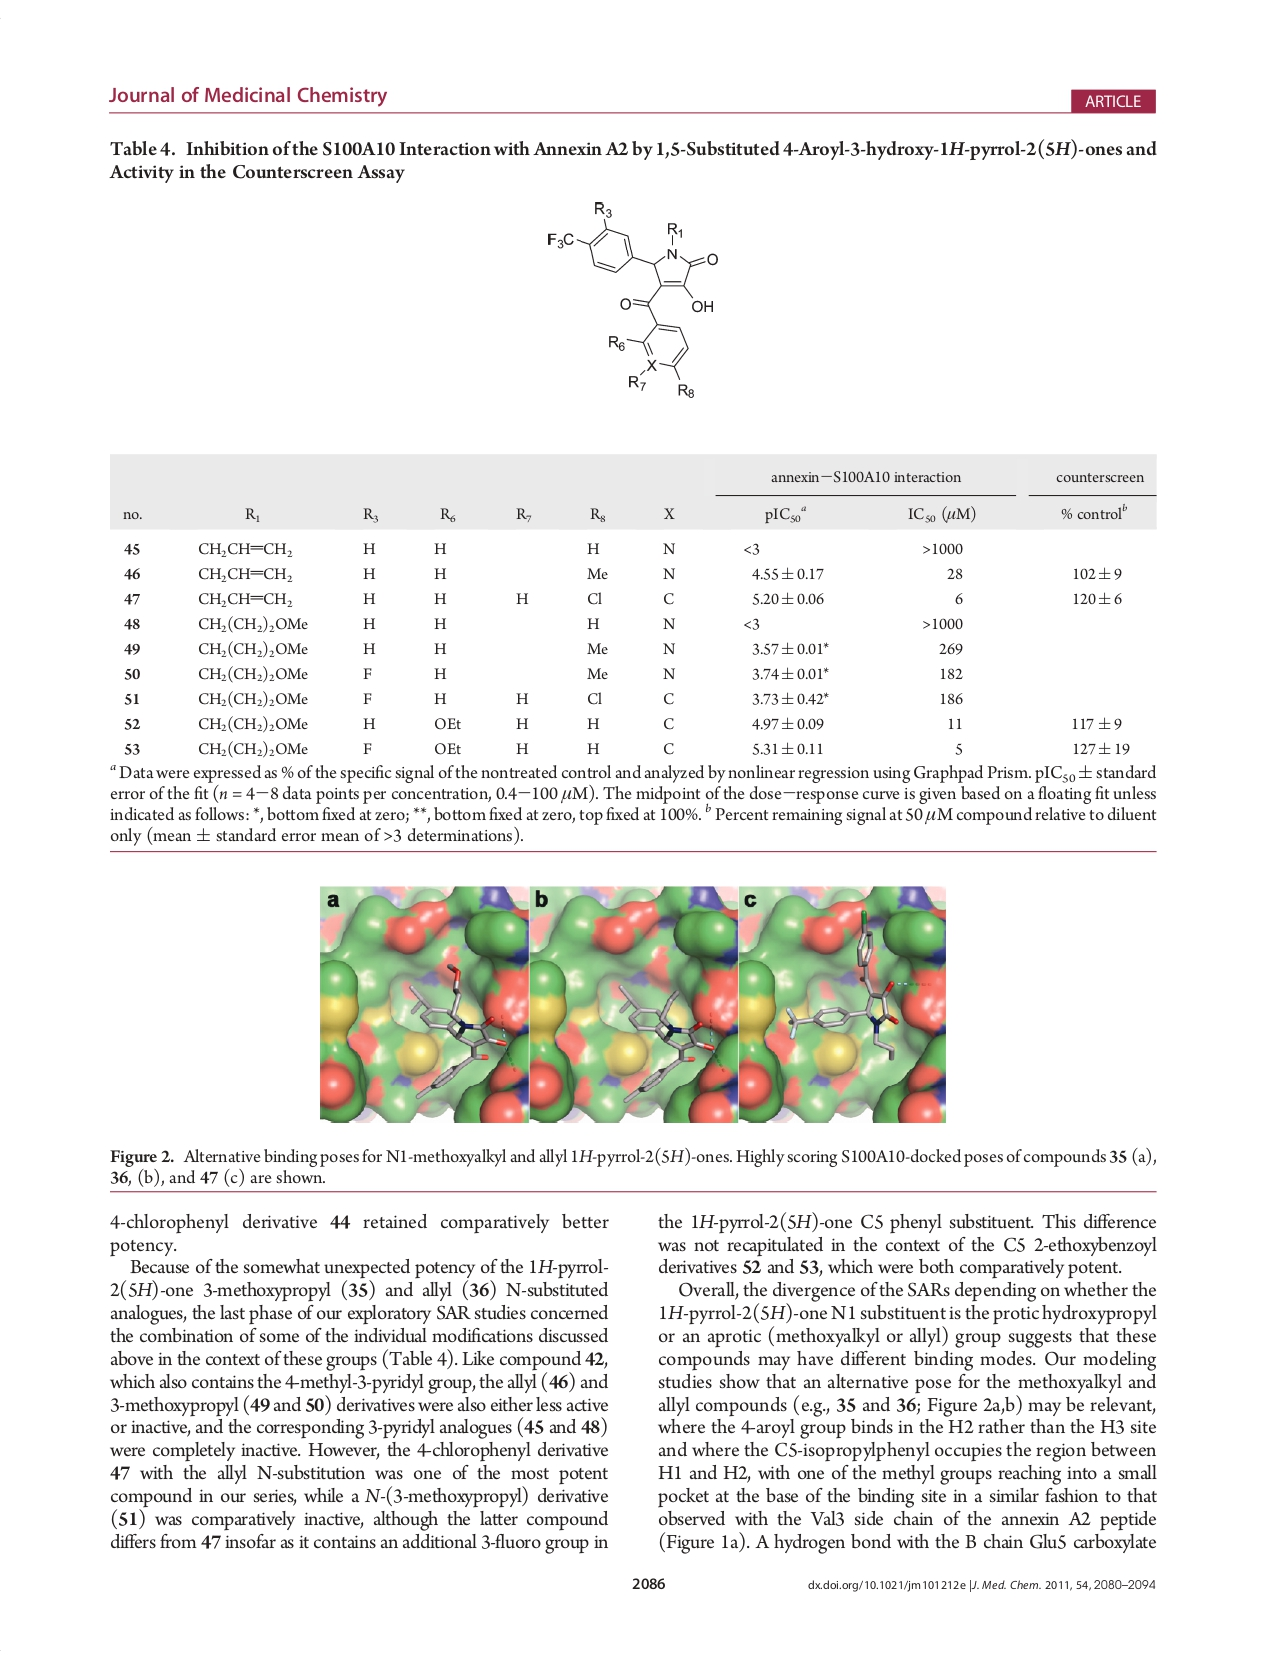exist_molecular: (528, 184, 727, 410)
